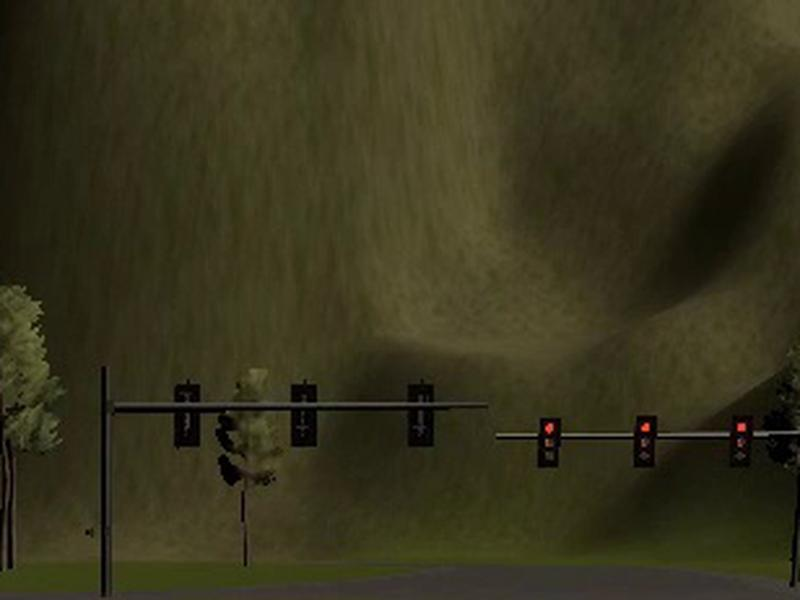Red: (633, 416, 659, 467), (537, 418, 562, 468), (732, 416, 756, 468)
